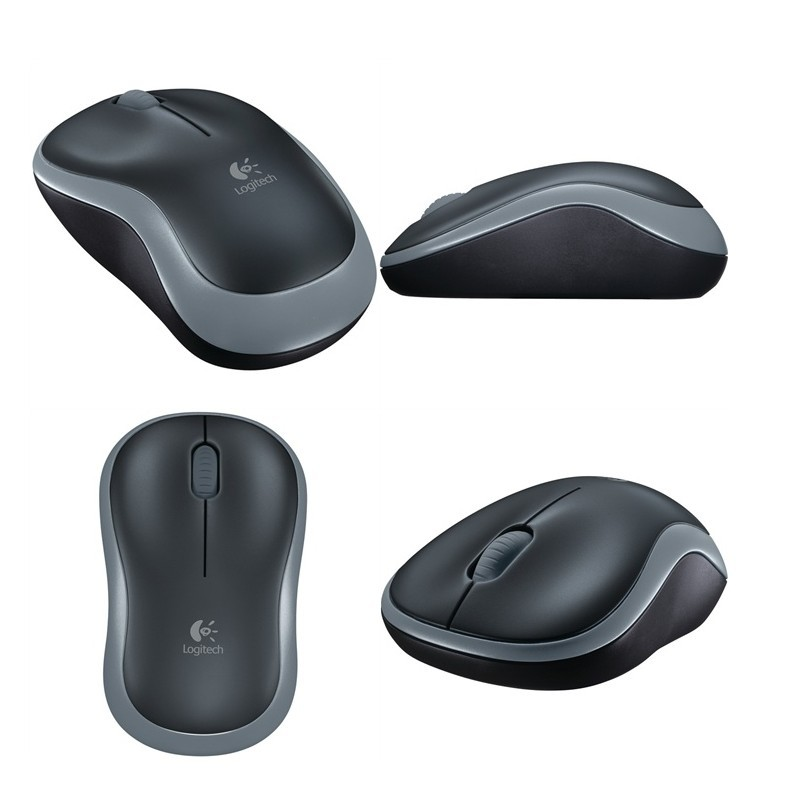logitech-mouse-m185: (30, 86, 375, 373), (369, 445, 732, 712), (103, 412, 316, 765), (380, 144, 753, 321)
